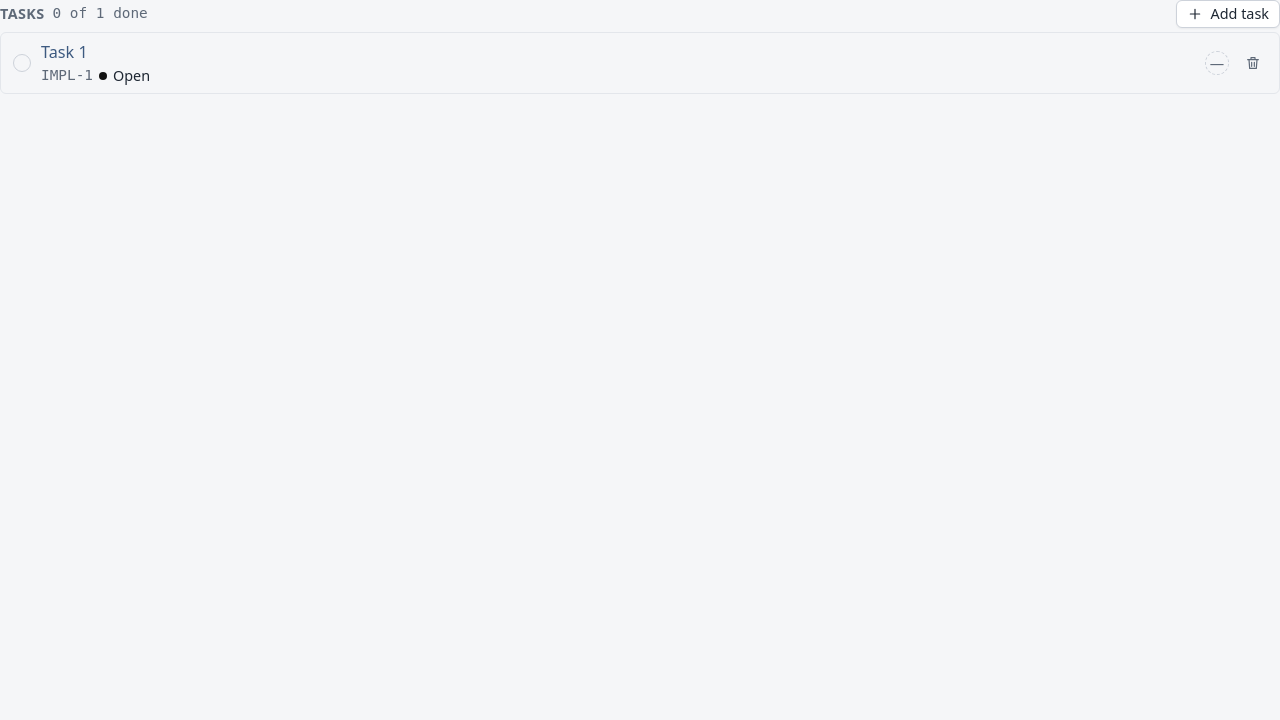
TasksSection: Move back › cancels without moving
Click the button "Add task" at (1228,14), box top-left (1176, 0), bottom-right (1279, 28)
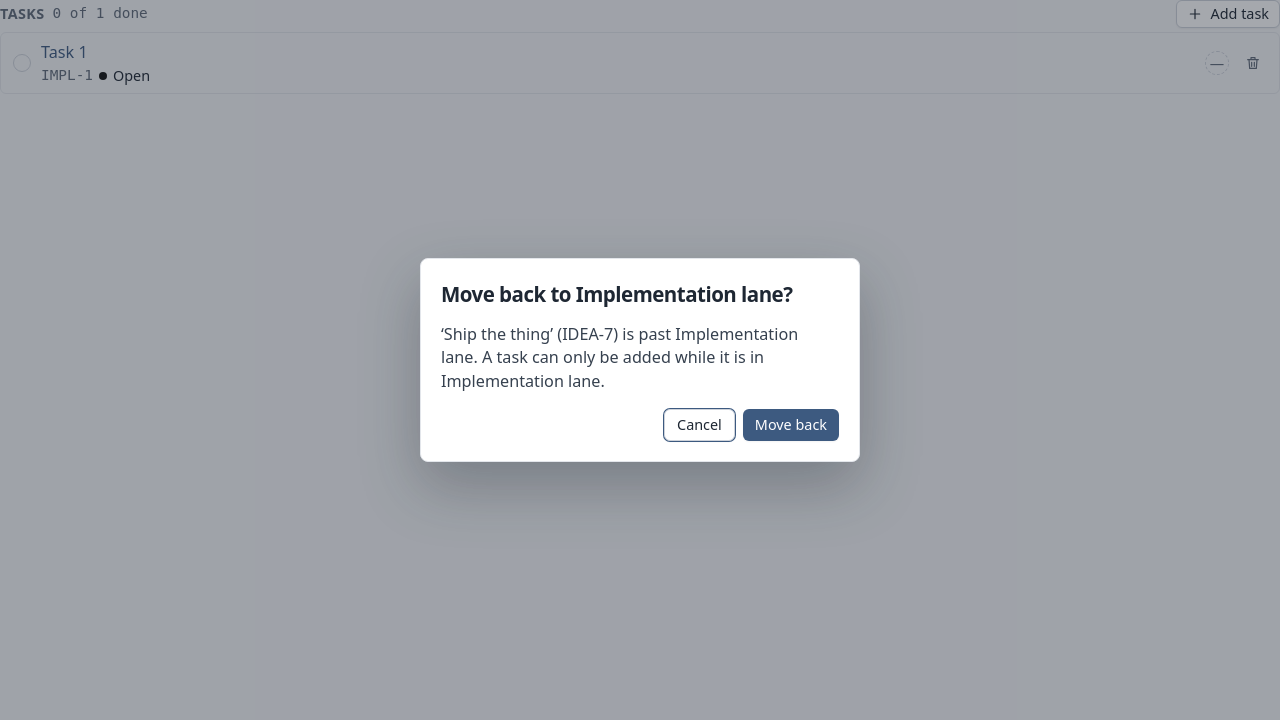
Click the button "Cancel" at (699,425), box top-left (664, 409), bottom-right (735, 441)
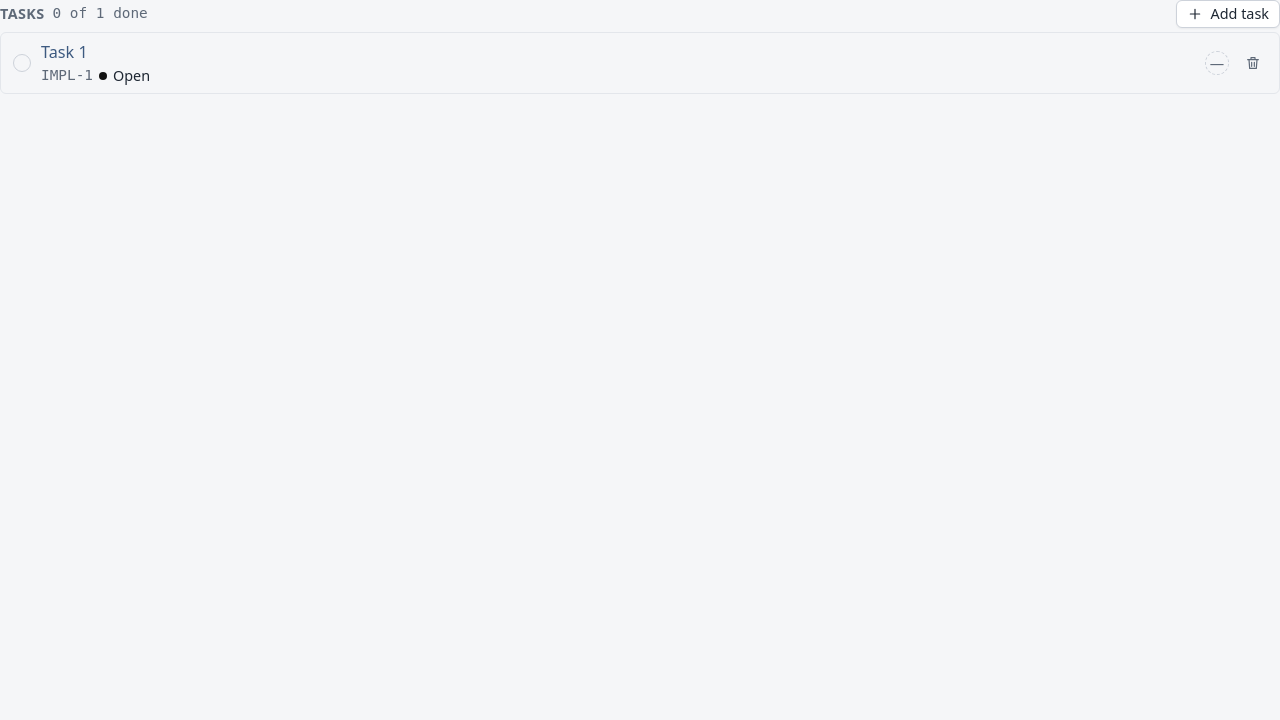
Expected: the heading "Move back to Implementation lane?" is gone
